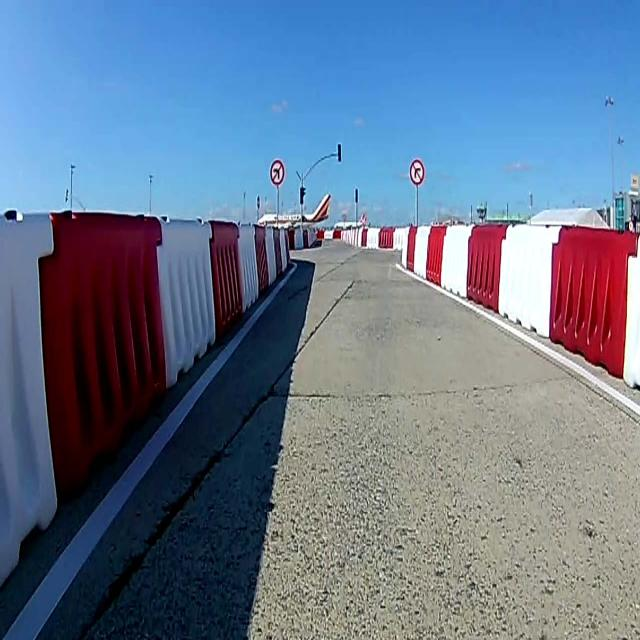sagadonulmez: (410, 160, 424, 184)
soladonulmez: (269, 160, 285, 184)
